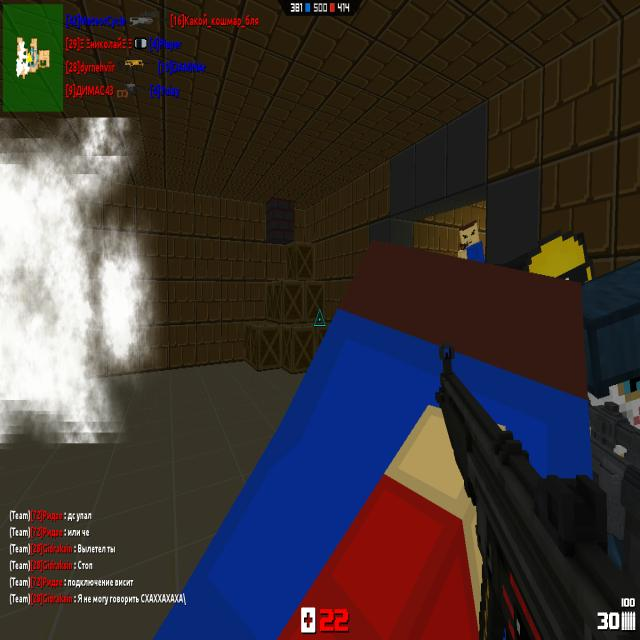enemy: (558, 250, 640, 587), (506, 234, 596, 286), (457, 220, 484, 267)
